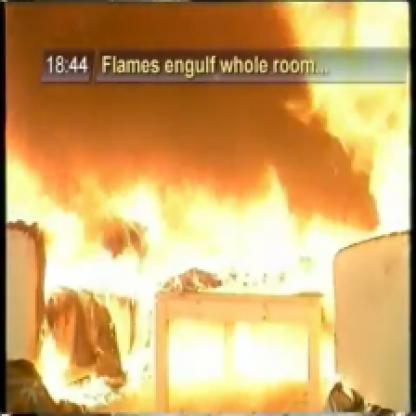fire: (14, 117, 176, 416), (261, 2, 416, 245), (185, 169, 350, 355)
